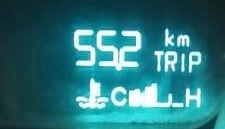-: (113, 63, 123, 71)
2: (118, 27, 145, 66)
5: (69, 25, 95, 65), (94, 25, 119, 65)
X: (109, 85, 127, 106), (188, 50, 203, 73), (184, 86, 200, 107), (164, 49, 177, 72), (163, 26, 175, 47), (152, 49, 162, 72), (177, 32, 190, 47), (180, 50, 186, 72)
